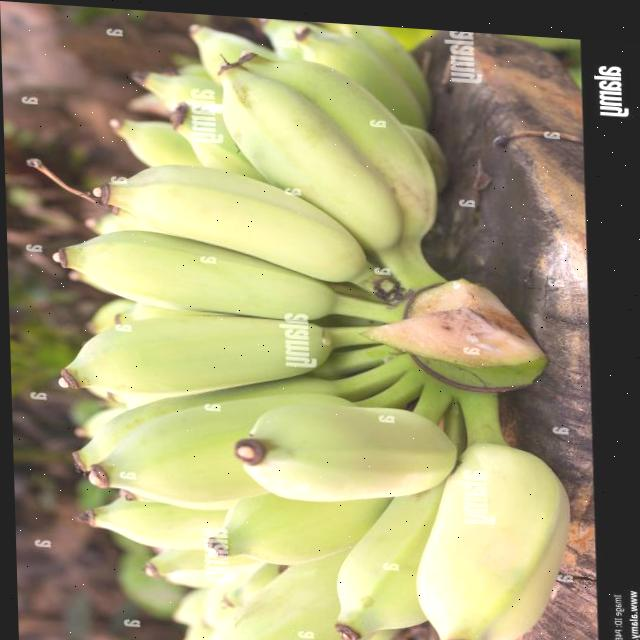banana: (39, 38, 580, 640), (47, 3, 456, 640)
